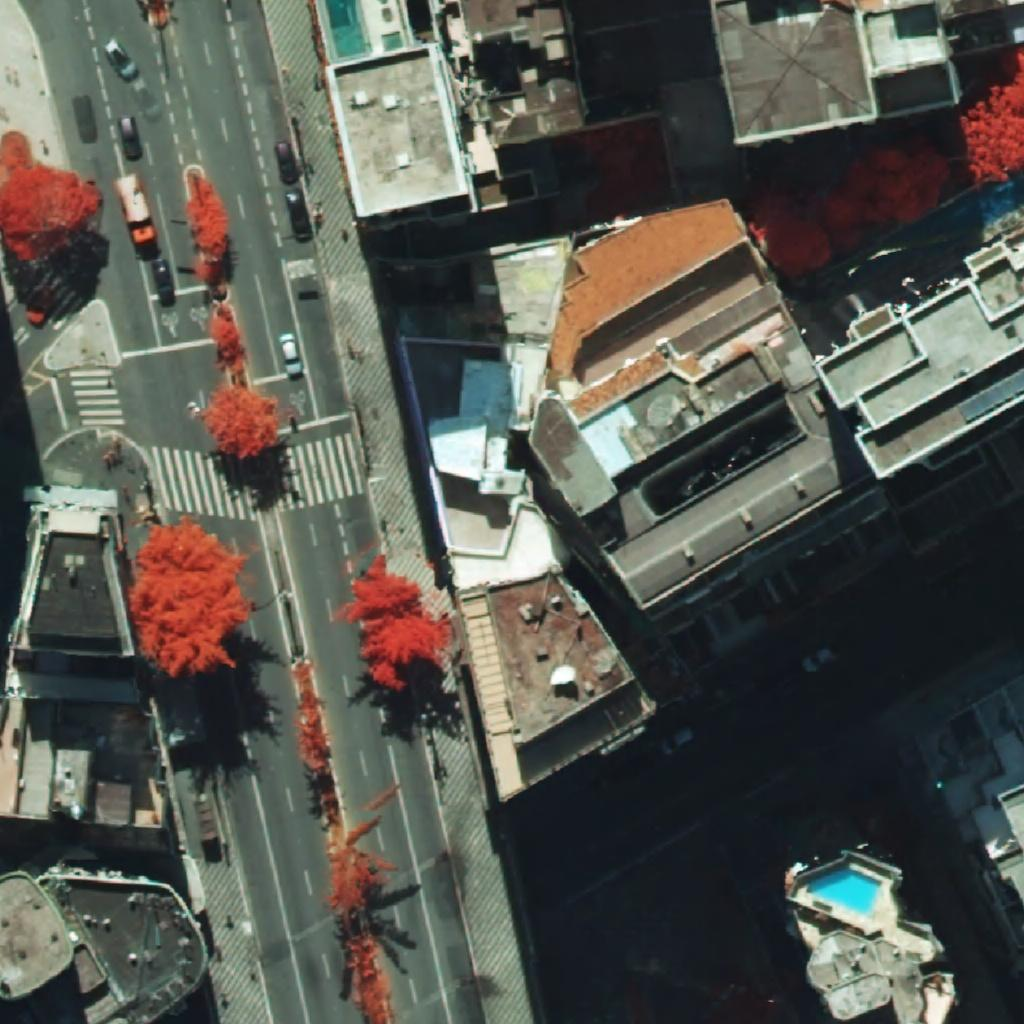pool: (807, 868, 880, 915), (325, 0, 367, 58)
